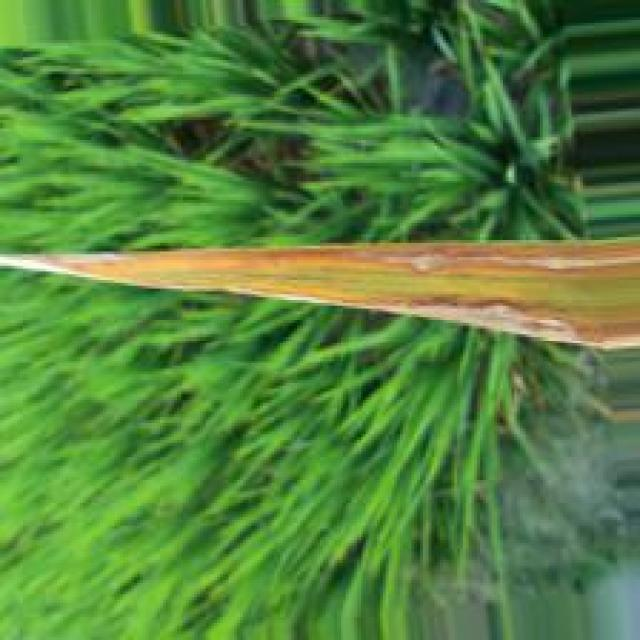Bacterial_Leaf_Blight: (0, 236, 640, 352)
